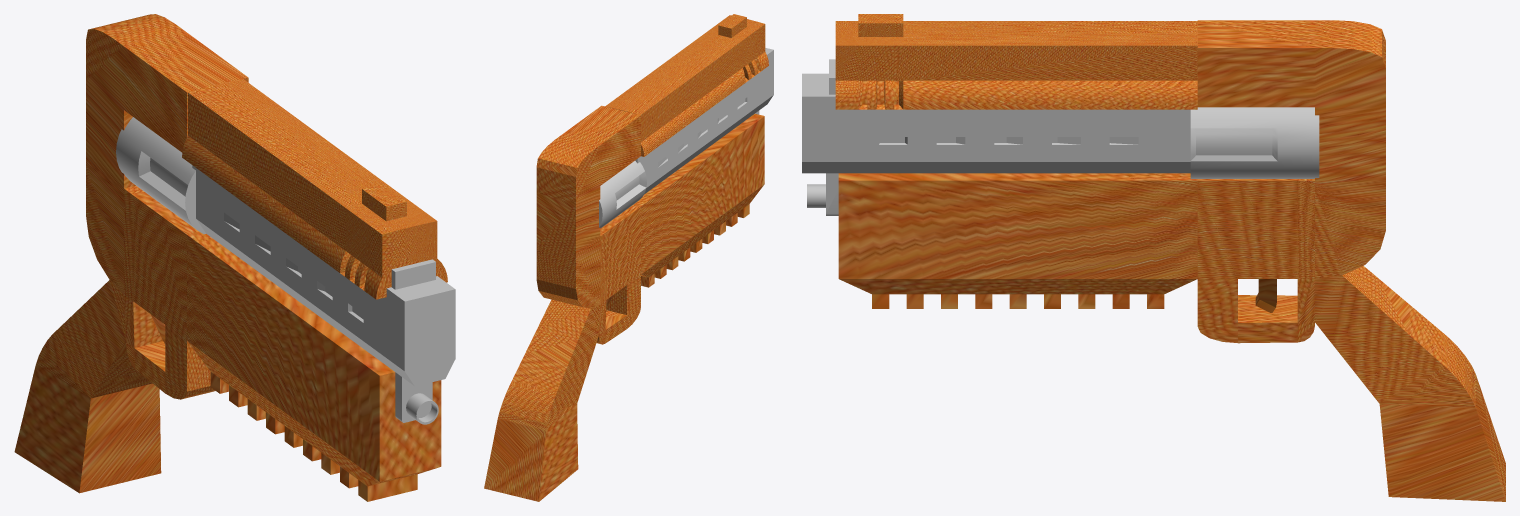
Rendered from gun.fbx.
3 views of the same model, side by side, from view 1: azimuth 30°, elevation 25°; view 2: azimuth 150°, elevation 25°; view 3: azimuth 270°, elevation 25° (orthographic). The views are drawn at different scales.
Parts seen in each view (by area): view 1: pistol; view 2: pistol; view 3: pistol.
Part boxes in pixels (left/top/right/bottom): pistol: left=14, top=14, right=455, bottom=501; pistol: left=484, top=14, right=773, bottom=501; pistol: left=802, top=14, right=1505, bottom=501.
Size of the model in its own units: 85.04 by 468 by 649.
